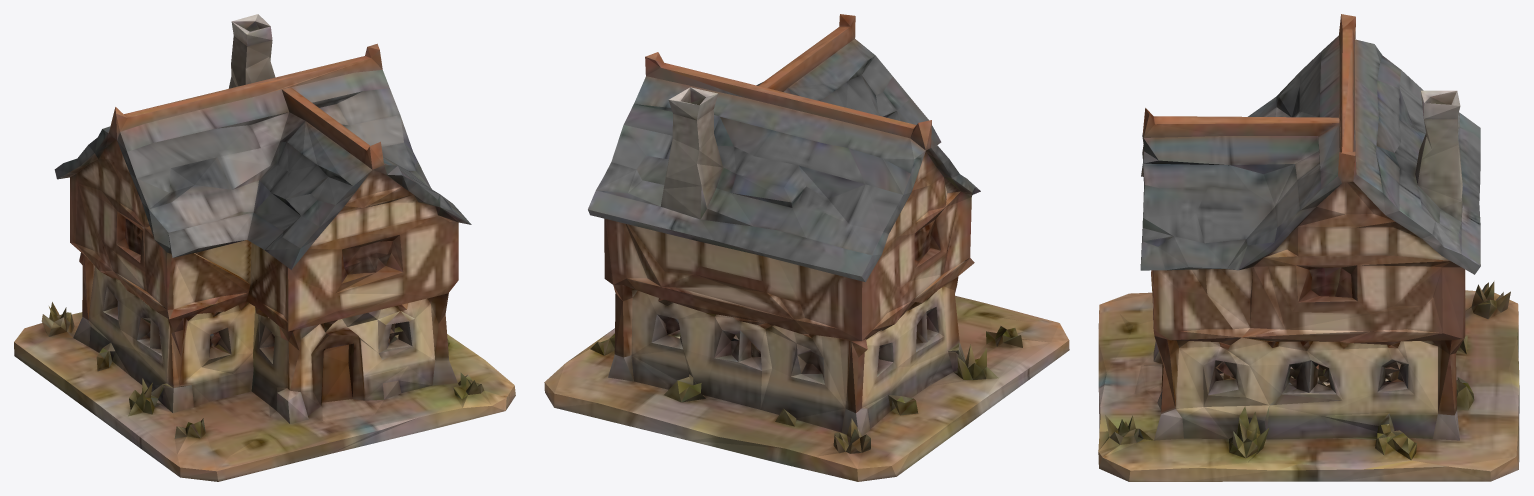
Rendered from cottage_slate_timber_lod1.glb.
3 renders of one model, left to right at view 1: azimuth 30°, elevation 25°; view 2: azimuth 150°, elevation 25°; view 3: azimuth 270°, elevation 25°, orthographic. The views are drawn at different scales.
Parts seen in each view (by area): view 1: cottage_slate_timber_lod1; view 2: cottage_slate_timber_lod1; view 3: cottage_slate_timber_lod1.
Part boxes in pixels (box(x1,y1,x2,y2)): cottage_slate_timber_lod1: box(14, 14, 515, 481); cottage_slate_timber_lod1: box(544, 14, 1069, 481); cottage_slate_timber_lod1: box(1098, 14, 1519, 481).
Size of the model in its own units: 6.93 by 5.83 by 6.92.
Materials: 1 (1 with a texture image).
